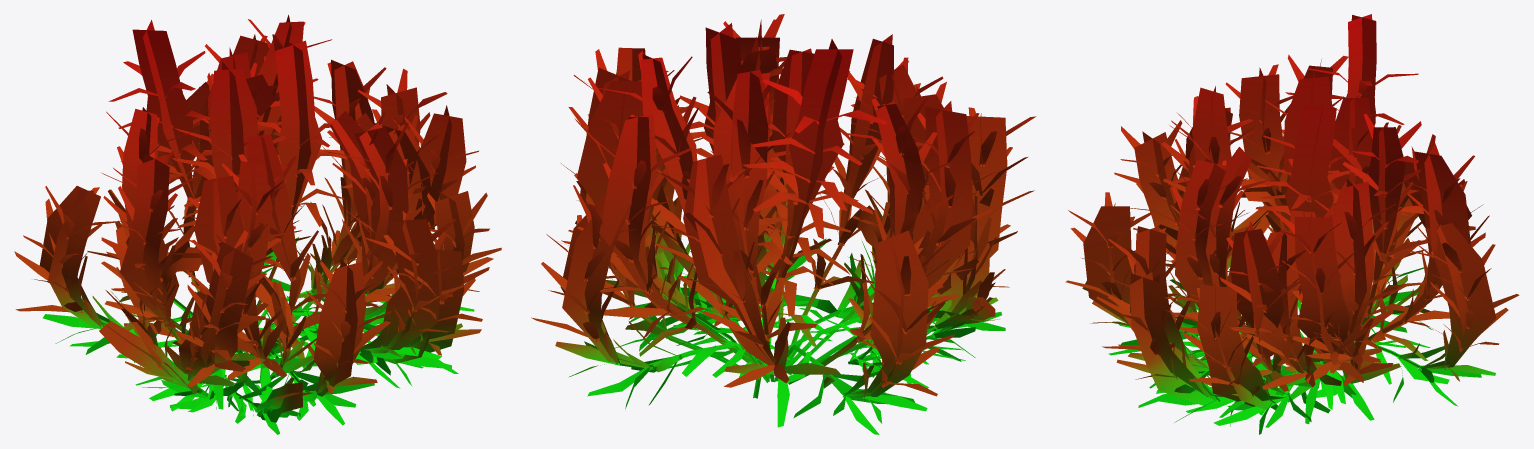
File: Var7_LOD4.fbx
3 views of the same model, side by side, from view 1: azimuth 30°, elevation 25°; view 2: azimuth 150°, elevation 25°; view 3: azimuth 270°, elevation 25° (orthographic). The views are drawn at different scales.
Visible parts, largest first — view 1: _zagl_Var7_LOD4; view 2: _zagl_Var7_LOD4; view 3: _zagl_Var7_LOD4.
Boxes of the visible parts, <box> form: _zagl_Var7_LOD4: <box>14,14,501,434</box>; _zagl_Var7_LOD4: <box>531,14,1036,434</box>; _zagl_Var7_LOD4: <box>1065,14,1519,434</box>.
Bounding box in the file's own units: 35.41 × 30.45 × 36.96.
